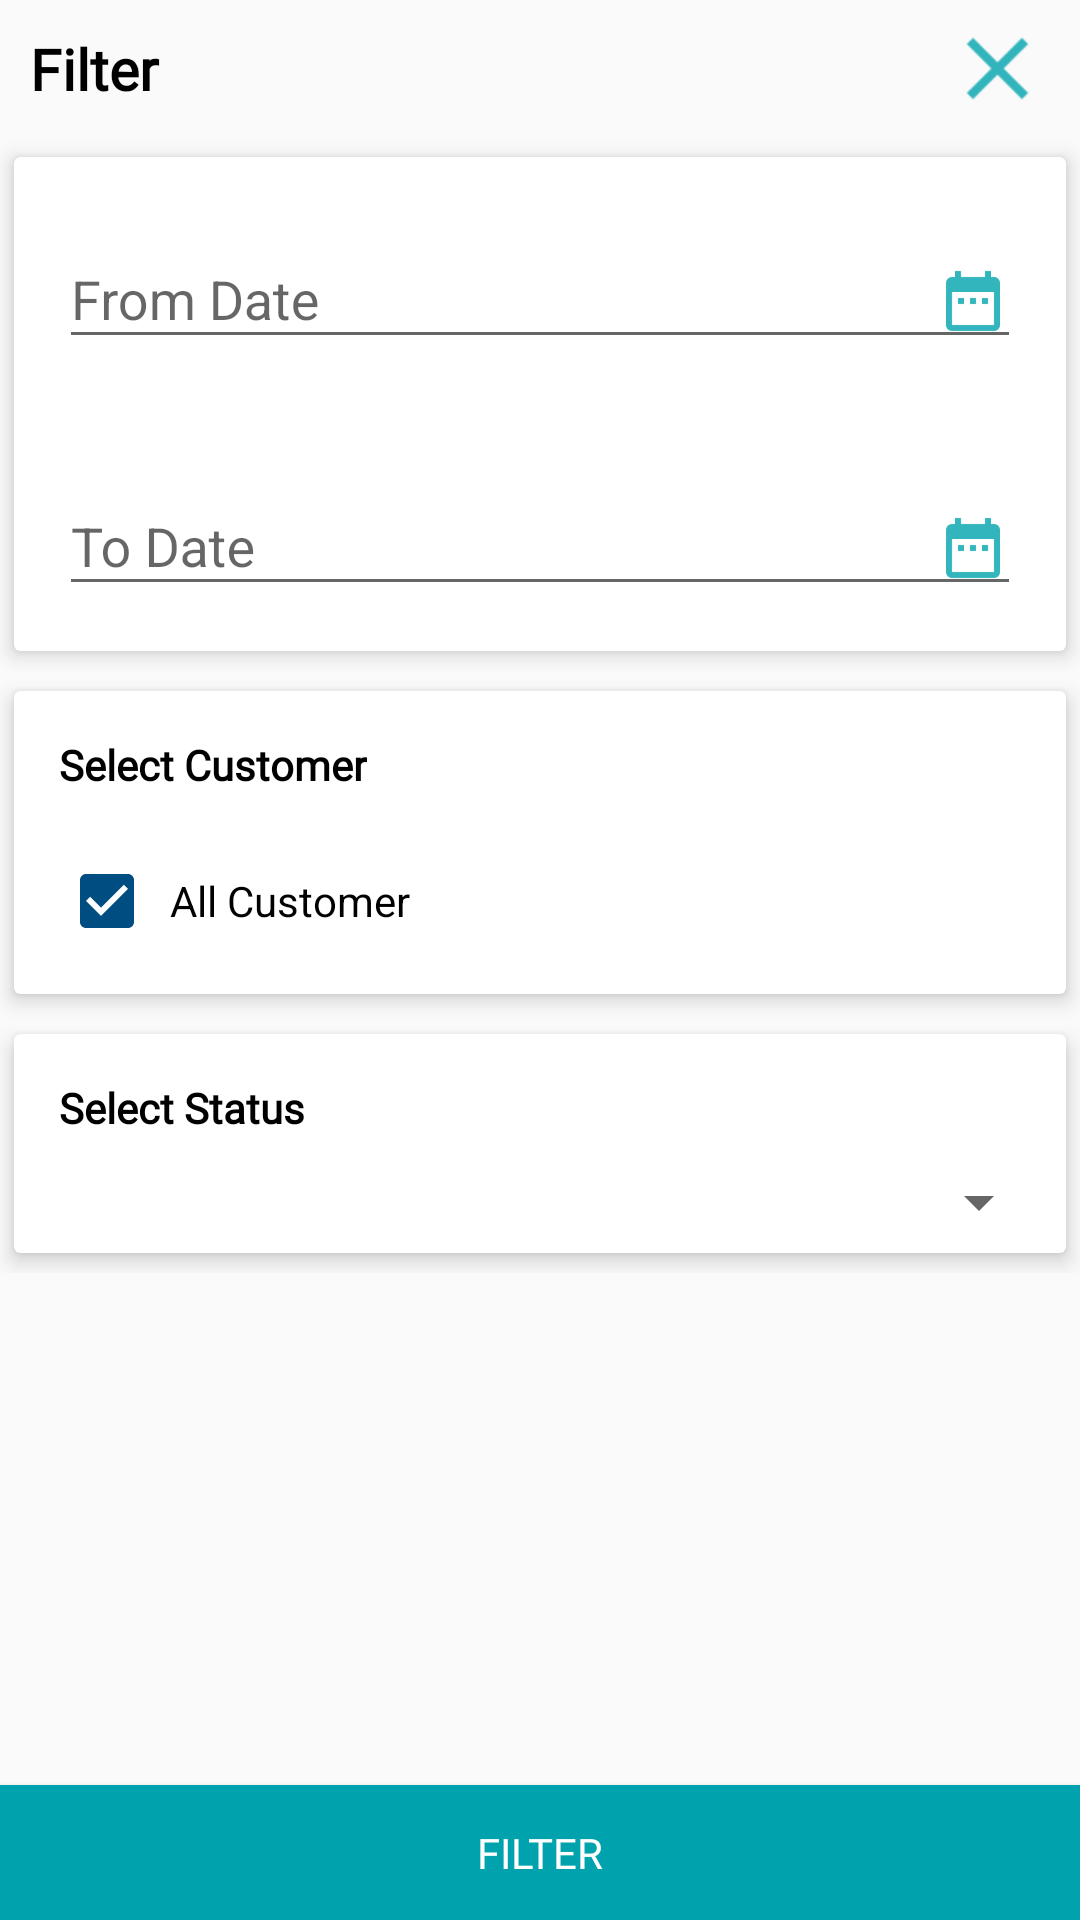

Named icons in this screenshot (1080 x 1920) and their centers, (x=x, y=y):
close: (x=997, y=68)
